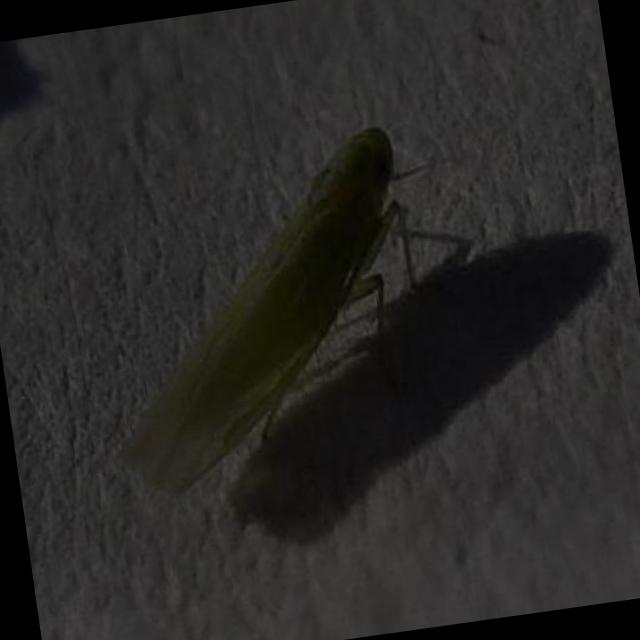green-leafhopper: (65, 92, 468, 522)
